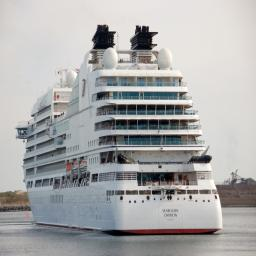cruises: (14, 21, 226, 239)
